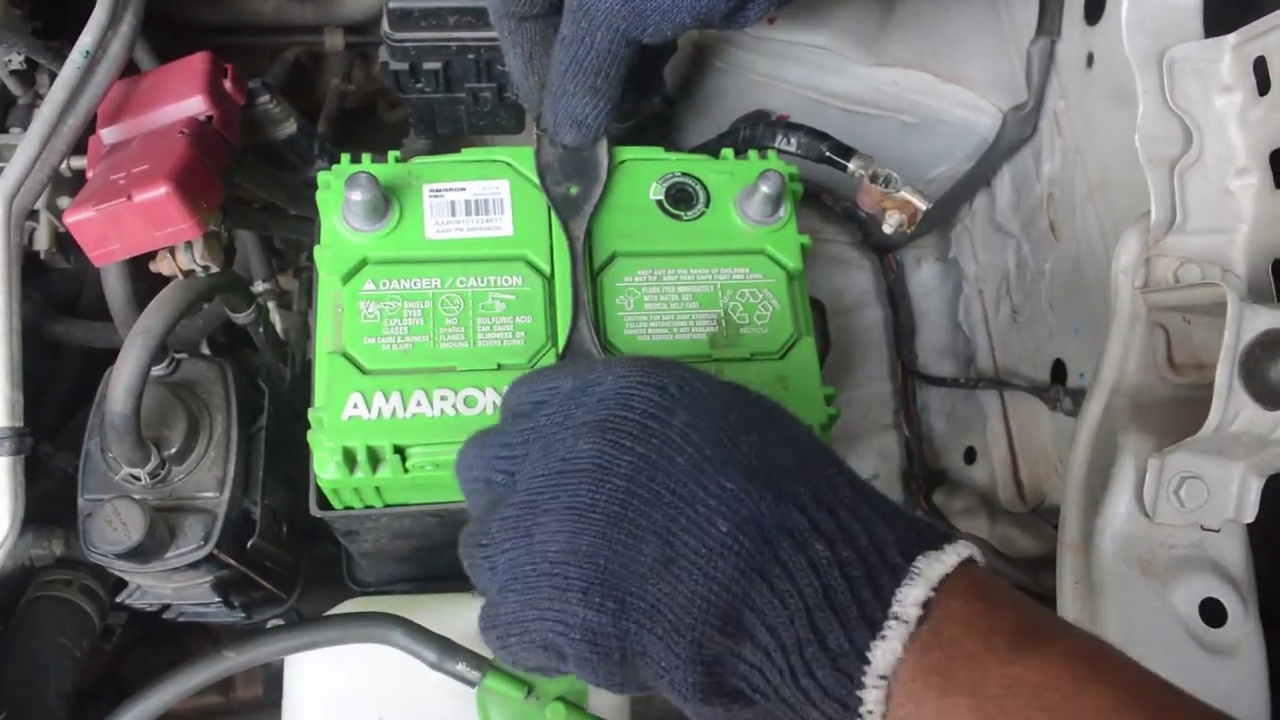battery: (308, 150, 833, 464)
neg_disconnected: (706, 154, 824, 249)
pos_disconnected: (64, 76, 407, 272)
